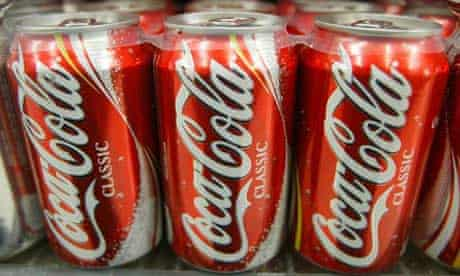Coca-Cola: (15, 29, 158, 260), (293, 34, 435, 265), (154, 30, 296, 261)
